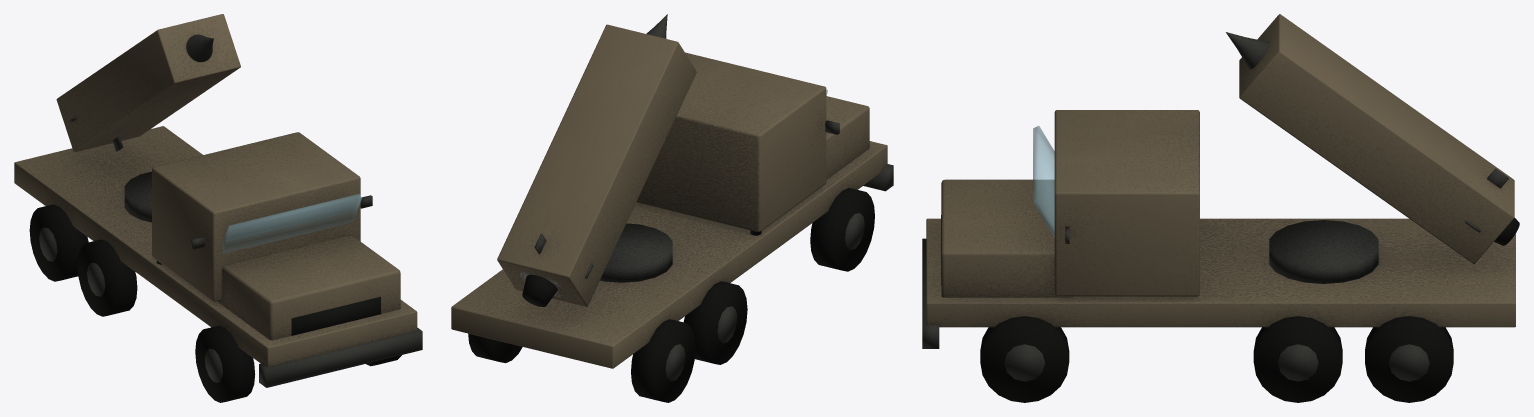
The model's file is sphere-atacms-block-i.glb.
3 views of the same model, side by side, from view 1: azimuth 30°, elevation 25°; view 2: azimuth 150°, elevation 25°; view 3: azimuth 270°, elevation 25° (orthographic). The views are drawn at different scales.
Parts seen in each view (by area): view 1: frame, wind; view 2: frame; view 3: frame, wind.
Part boxes in pixels (x1=…): frame: x1=14, y1=14, x2=422, y2=402; wind: x1=222, y1=194, x2=361, y2=253; frame: x1=451, y1=14, x2=893, y2=402; frame: x1=922, y1=14, x2=1519, y2=402; wind: x1=1033, y1=126, x2=1054, y2=237.
Size of the model in its own units: 2.82 by 4.16 by 6.99.
2 materials, 1 textured.
